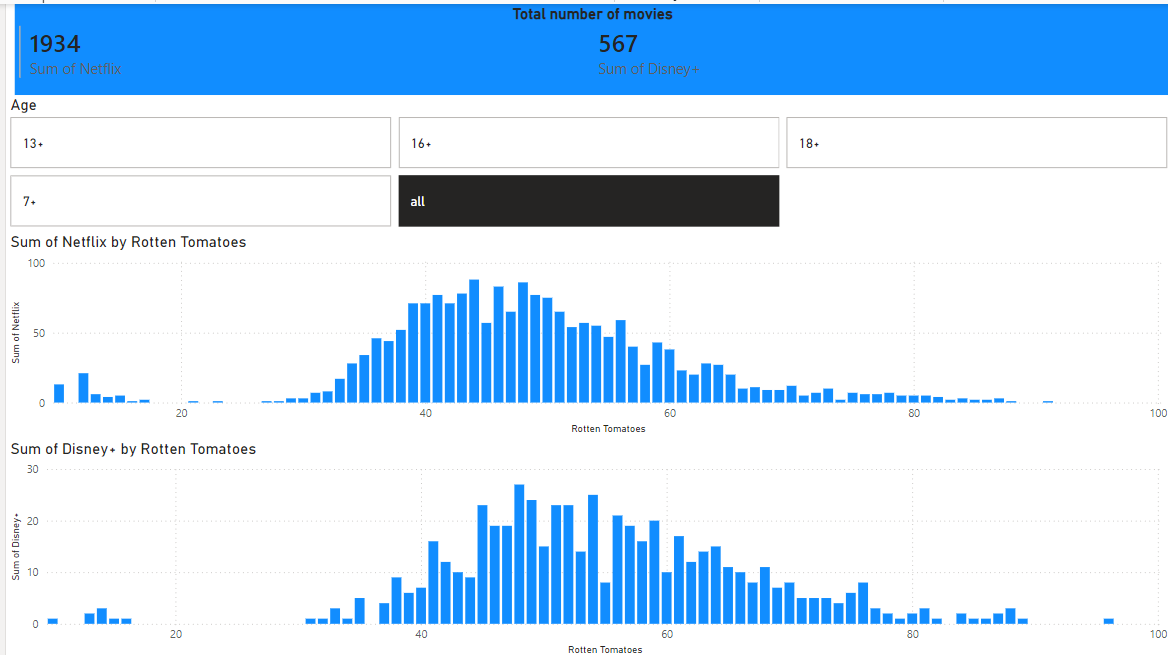

What the dashboard file says about the page in this screenshot:
{"tool":"powerbi","page":{"name":"Page 2","canvas":[1280,720],"ordinal":1},"visuals":[{"type":"multiRowCard","title":"Total number of movies","fields":{"Values":["Sum(MoviesOnStreamingPlatforms.Netflix)","Sum(MoviesOnStreamingPlatforms.Disney+)"]},"box":[9.6,0,1269.3,100.2],"z":0},{"type":"advancedSlicerVisual","fields":{"Values":["MoviesOnStreamingPlatforms.Age"]},"box":[0,100.2,1280.3,150.9],"z":1000},{"type":"columnChart","fields":{"Category":["MoviesOnStreamingPlatforms.Rotten Tomatoes"],"Y":["Sum(MoviesOnStreamingPlatforms.Netflix)"]},"box":[0,251.1,1280.3,226.4],"z":2000},{"type":"columnChart","fields":{"Category":["MoviesOnStreamingPlatforms.Rotten Tomatoes"],"Y":["Sum(MoviesOnStreamingPlatforms.Disney+)"]},"box":[0,477.5,1280.3,242.9],"z":3000}]}

Visuals, with their boxes in screenshot pixels (x1, y1, x2, y2), scaled from the page's 1280x720 canvas onto the 1168x655 screenshot:
"Total number of movies" multiRowCard: <region>9, 0, 1167, 91</region>
advancedSlicerVisual - MoviesOnStreamingPlatforms.Age: <region>0, 91, 1167, 228</region>
columnChart - MoviesOnStreamingPlatforms.Rotten Tomatoes x Sum(MoviesOnStreamingPlatforms.Netflix): <region>0, 228, 1167, 434</region>
columnChart - MoviesOnStreamingPlatforms.Rotten Tomatoes x Sum(MoviesOnStreamingPlatforms.Disney+): <region>0, 434, 1167, 654</region>
